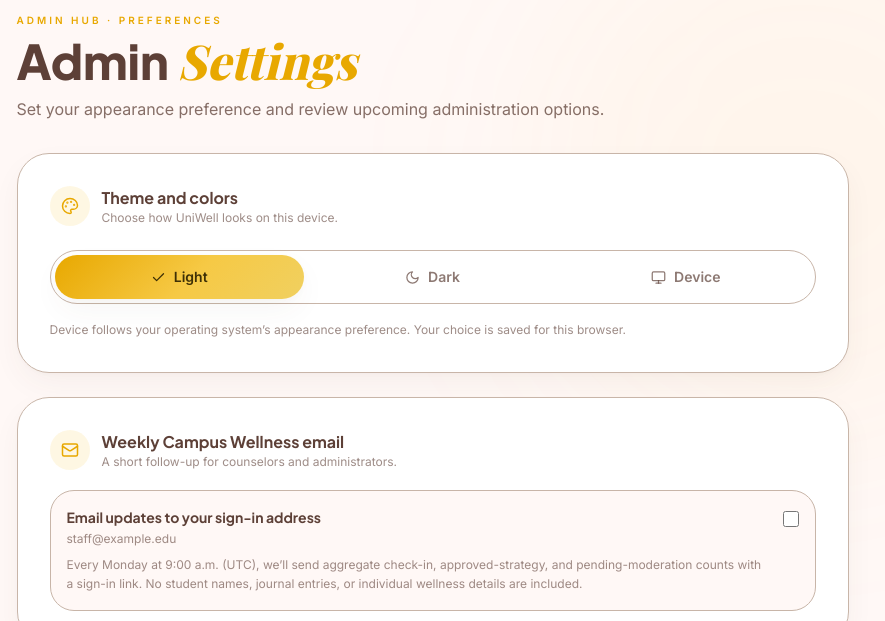
Test: admin appearance settings › lets staff opt in to weekly Campus Wellness emails
Click the checkbox named "Enable weekly Campus Wellness emails" at coordinates (790, 518), box x1=782 y1=510 x2=798 y2=526
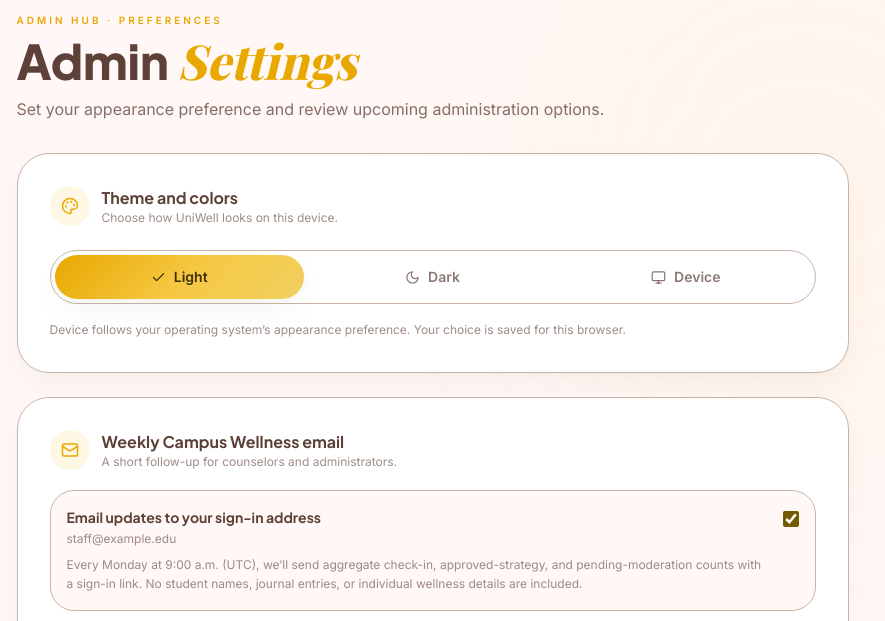
Result: the checkbox named "Enable weekly Campus Wellness emails" is checked at x1=782 y1=510 x2=798 y2=526
